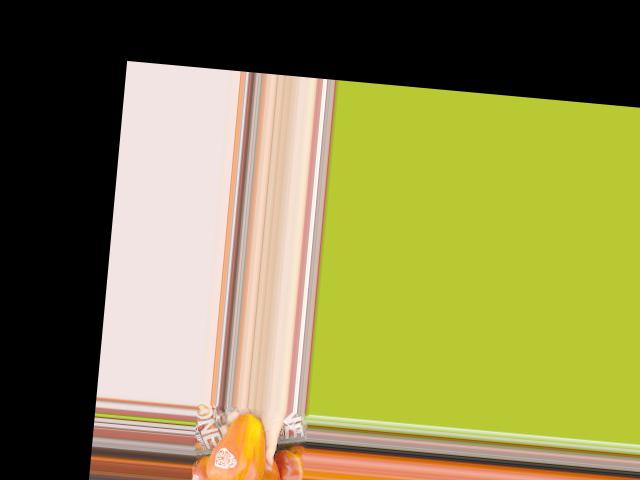bell_pepper: (201, 411, 275, 480)
